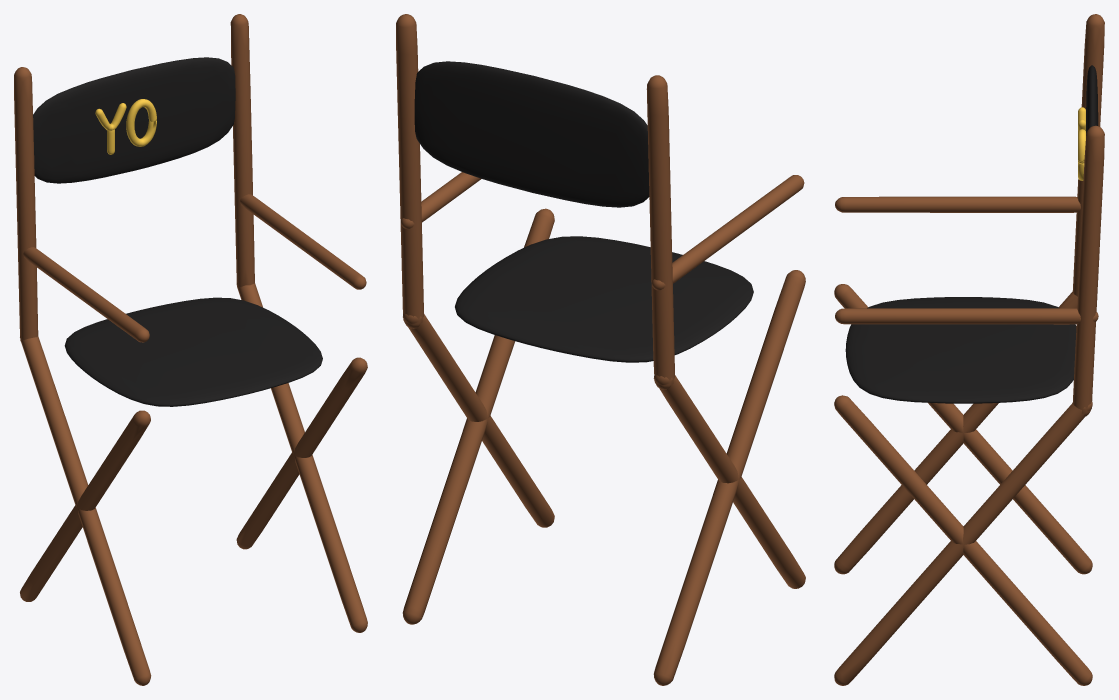
The model's file is deco_silla_director.glb.
3 renders of one model, left to right at view 1: azimuth 30°, elevation 25°; view 2: azimuth 150°, elevation 25°; view 3: azimuth 270°, elevation 25°, orthographic. The views are drawn at different scales.
Parts seen in each view (by area): view 1: asiento lona.001, respaldo lona.001, x pata -1 a.001, x pata 1 a.001, respaldo palo -1.001, respaldo palo 1.001, x pata 1 b.001, x pata -1 b.001, brazo silla 1.001, brazo silla -1.001, letra 1 0.003; view 2: respaldo lona.001, asiento lona.001, x pata -1 b.001, x pata 1 b.001, respaldo palo -1.001, respaldo palo 1.001, x pata -1 a.001, x pata 1 a.001, brazo silla -1.001, brazo silla 1.001; view 3: asiento lona.001, x pata 1 b.001, x pata 1 a.001, respaldo palo 1.001, x pata -1 b.001, brazo silla 1.001, brazo silla -1.001, x pata -1 a.001, respaldo palo -1.001, respaldo lona.001.
Boxes of the visible parts, bbox=[...] form: asiento lona.001: bbox=[64, 297, 322, 406]; respaldo lona.001: bbox=[33, 57, 235, 183]; x pata -1 a.001: bbox=[20, 336, 151, 685]; x pata 1 a.001: bbox=[236, 283, 367, 632]; respaldo palo -1.001: bbox=[14, 67, 38, 342]; respaldo palo 1.001: bbox=[230, 14, 254, 289]; x pata 1 b.001: bbox=[236, 357, 367, 549]; x pata -1 b.001: bbox=[20, 410, 150, 601]; brazo silla 1.001: bbox=[240, 194, 366, 289]; brazo silla -1.001: bbox=[23, 247, 149, 342]; letra 1 0.003: bbox=[126, 99, 156, 146]; respaldo lona.001: bbox=[414, 61, 649, 207]; asiento lona.001: bbox=[455, 236, 753, 362]; x pata -1 b.001: bbox=[653, 270, 805, 685]; x pata 1 b.001: bbox=[402, 208, 554, 624]; respaldo palo -1.001: bbox=[646, 75, 674, 389]; respaldo palo 1.001: bbox=[396, 14, 423, 328]; x pata -1 a.001: bbox=[653, 374, 805, 588]; x pata 1 a.001: bbox=[403, 313, 554, 527]; brazo silla -1.001: bbox=[651, 175, 804, 290]; brazo silla 1.001: bbox=[400, 172, 481, 229]; asiento lona.001: bbox=[845, 297, 1076, 403]; x pata 1 b.001: bbox=[834, 395, 1092, 685]; x pata 1 a.001: bbox=[834, 401, 1092, 685]; respaldo palo 1.001: bbox=[1072, 125, 1104, 416]; x pata -1 b.001: bbox=[834, 284, 1092, 574]; brazo silla 1.001: bbox=[835, 308, 1098, 324]; brazo silla -1.001: bbox=[835, 196, 1080, 212]; x pata -1 a.001: bbox=[834, 291, 1077, 574]; respaldo palo -1.001: bbox=[1072, 14, 1104, 296]; respaldo lona.001: bbox=[1085, 65, 1098, 135].
Bounding box in the file's own units: 0.4296 × 0.9342 × 0.4102.
